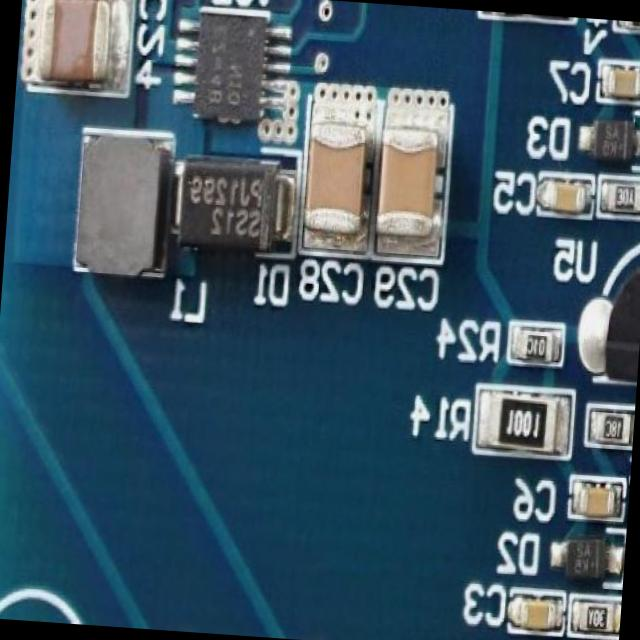IC: (178, 2, 278, 134)
capacitor: (304, 97, 376, 242), (373, 115, 446, 254), (20, 0, 130, 89), (508, 599, 560, 640), (574, 479, 624, 516), (542, 180, 586, 219), (602, 63, 640, 100)
diode: (174, 158, 286, 261), (562, 532, 611, 586), (591, 116, 640, 166)
resistor: (479, 386, 565, 456), (507, 310, 562, 372), (599, 173, 640, 216), (591, 408, 631, 449), (576, 602, 614, 636)
